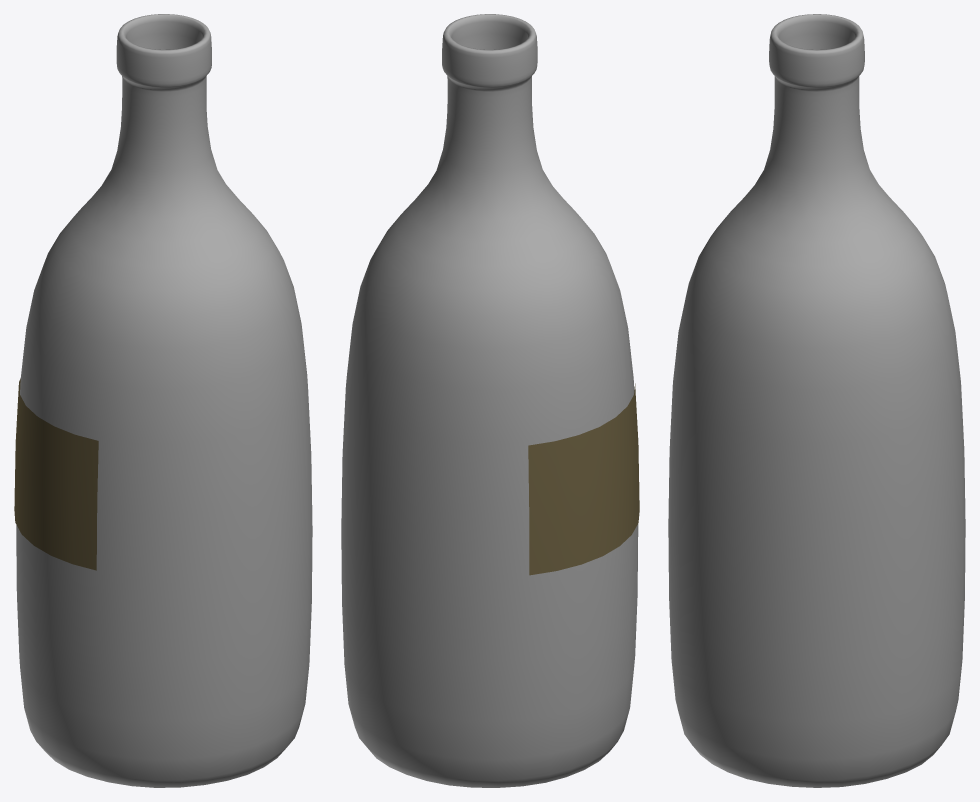
The model's file is Potion_C.fbx.
3 renders of one model, left to right at view 1: azimuth 30°, elevation 25°; view 2: azimuth 150°, elevation 25°; view 3: azimuth 270°, elevation 25°, orthographic.
Visible parts, largest first — view 1: Glass4, Lable; view 2: Glass4, Lable; view 3: Glass4.
Boxes of the visible parts, x1=… form: Glass4: x1=16, y1=14, x2=312, y2=787; Lable: x1=14, y1=378, x2=98, y2=570; Glass4: x1=341, y1=14, x2=638, y2=787; Lable: x1=528, y1=383, x2=639, y2=575; Glass4: x1=668, y1=14, x2=965, y2=787.
Size of the model in its own units: 9.58 by 25.19 by 9.52.
